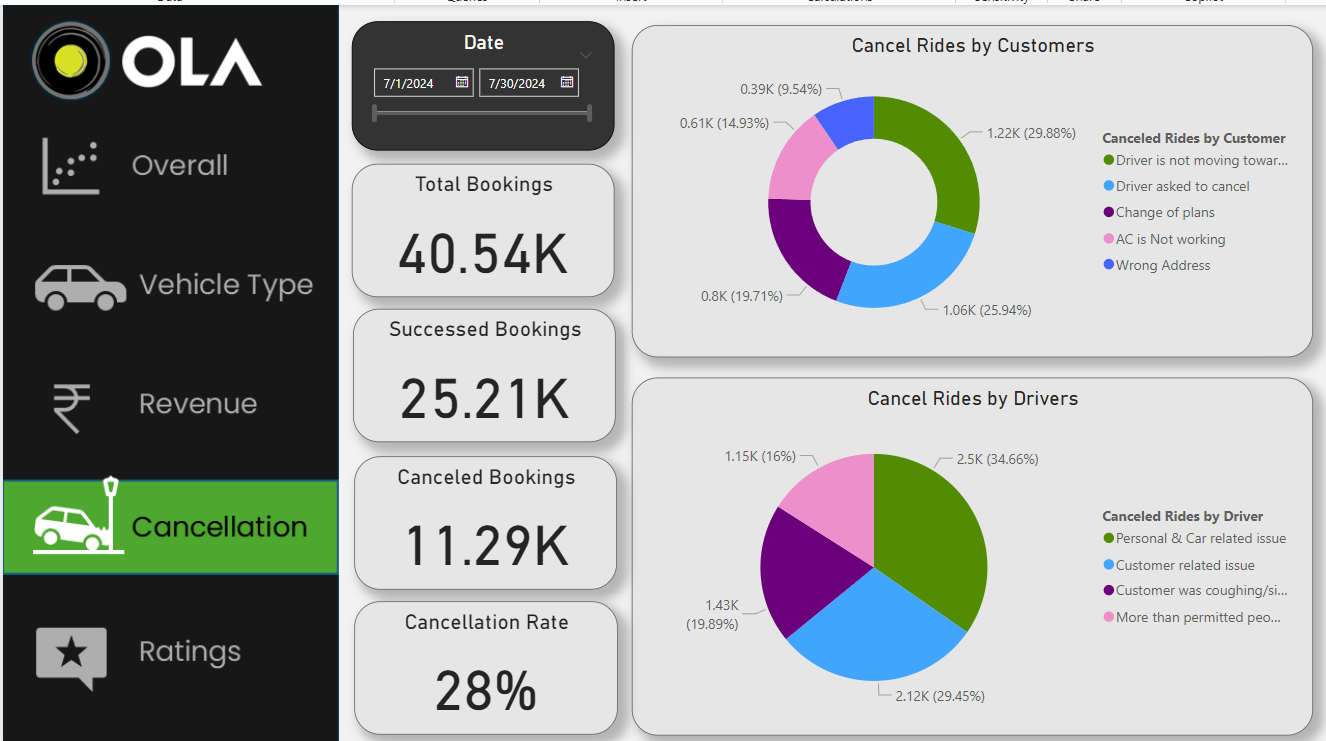

Layout of this report page (visuals, bound fields, positions):
{"tool":"powerbi","page":{"name":"Cancellation","canvas":[1280,720],"ordinal":3},"visuals":[{"type":"actionButton","box":[0,111,324.5,90.5],"z":0},{"type":"actionButton","box":[0,225.6,324.5,90.5],"z":1000},{"type":"actionButton","box":[0,340.2,324.5,90.5],"z":2000},{"type":"actionButton","box":[0,581.5,324.5,90.5],"z":3000},{"type":"actionButton","box":[0,580.3,324.5,90.5],"z":4000},{"type":"donutChart","title":"Cancel Rides by Customers","fields":{"Y":["CountNonNull(Bookings.Canceled_Rides_by_Customer)"],"Category":["Bookings.Canceled_Rides_by_Customer"]},"box":[606.5,19.2,657.3,321.1],"z":5000},{"type":"pieChart","title":"Cancel Rides by Drivers","fields":{"Category":["Bookings.Canceled_Rides_by_Driver"],"Y":["CountNonNull(Bookings.Canceled_Rides_by_Driver)"]},"box":[606.5,359.5,657.3,345.8],"z":6000},{"type":"slicer","title":"Date","fields":{"Values":["Bookings.Date"]},"box":[336.2,15.1,253.9,124.9],"z":7000},{"type":"card","title":"Total Bookings","fields":{"Values":["CountNonNull(Bookings.Booking_ID)"]},"box":[336.2,153.7,253.9,129],"z":8000},{"type":"card","title":"Successed Bookings","fields":{"Values":["CountNonNull(Bookings.Booking_ID)"]},"box":[337.6,293.7,253.9,129],"z":9000},{"type":"card","title":"Canceled Bookings","fields":{"Values":["CountNonNull(Bookings.Booking_ID)"]},"box":[338.9,435,253.9,129],"z":10000},{"type":"card","title":"Cancellation Rate","fields":{"Values":["Bookings.CancellationRate"]},"box":[339.4,575.8,254.5,128.8],"z":11000}]}

Visuals, with their boxes on the page's 1280x720 design canvas (x1, y1, x2, y2). These are canvas units, not pixel positions in the 1326x741 screenshot, which may show the page scaled, cropped or inside an application window:
actionButton: <region>0, 111, 324, 202</region>
actionButton: <region>0, 226, 324, 316</region>
actionButton: <region>0, 340, 324, 431</region>
actionButton: <region>0, 582, 324, 672</region>
actionButton: <region>0, 580, 324, 671</region>
"Cancel Rides by Customers" donutChart: <region>606, 19, 1264, 340</region>
"Cancel Rides by Drivers" pieChart: <region>606, 360, 1264, 705</region>
"Date" slicer: <region>336, 15, 590, 140</region>
"Total Bookings" card: <region>336, 154, 590, 283</region>
"Successed Bookings" card: <region>338, 294, 592, 423</region>
"Canceled Bookings" card: <region>339, 435, 593, 564</region>
"Cancellation Rate" card: <region>339, 576, 594, 705</region>
